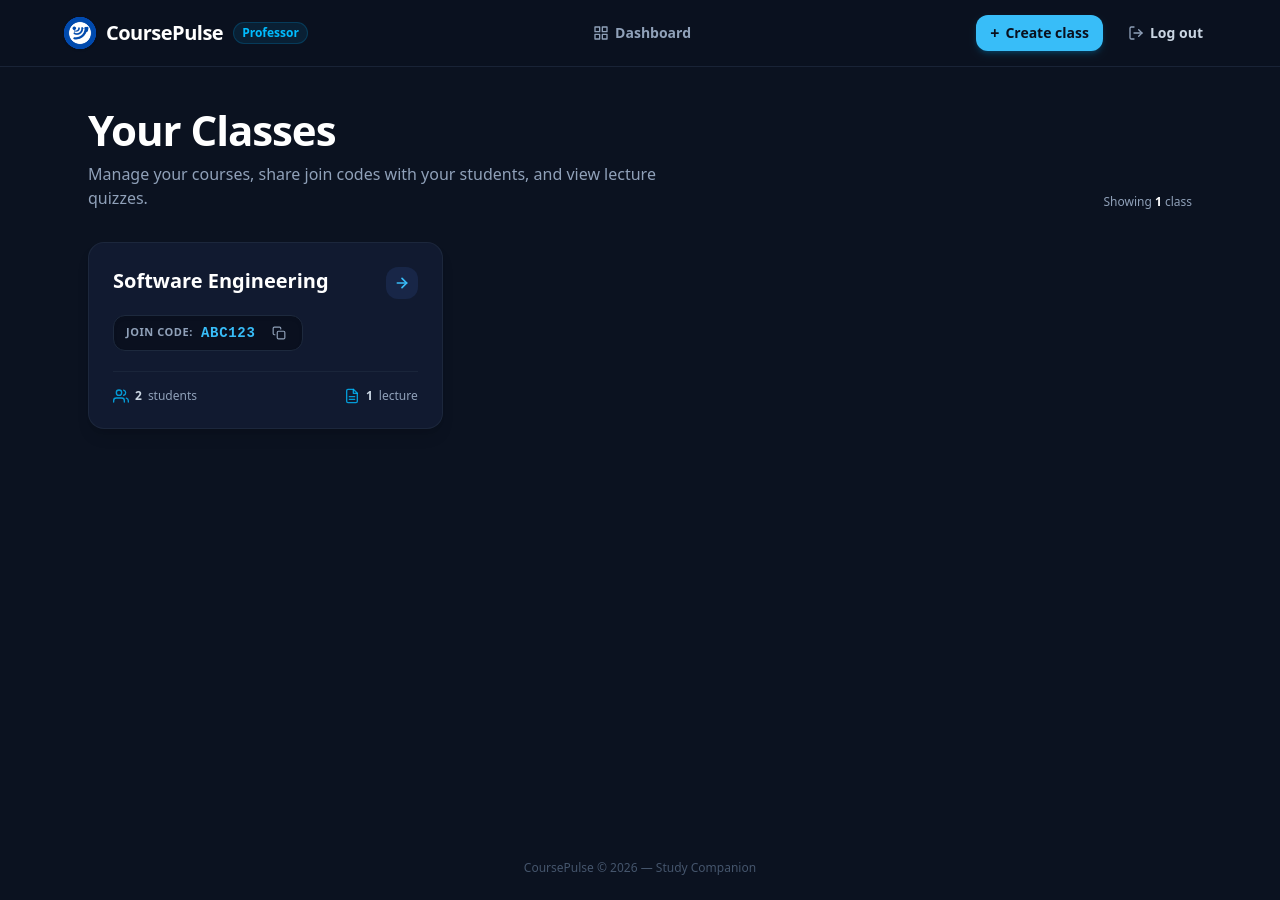
it: ProfessorDashboard copy › shows Copied on the new-class dialog only when the copy succeeds
This screenshot has width=1280, height=900.
Check: the heading "Software Engineering" is shown, box [113,267,329,295]
Click the button "+ Create class" at (1040, 33), box [976,15,1103,51]
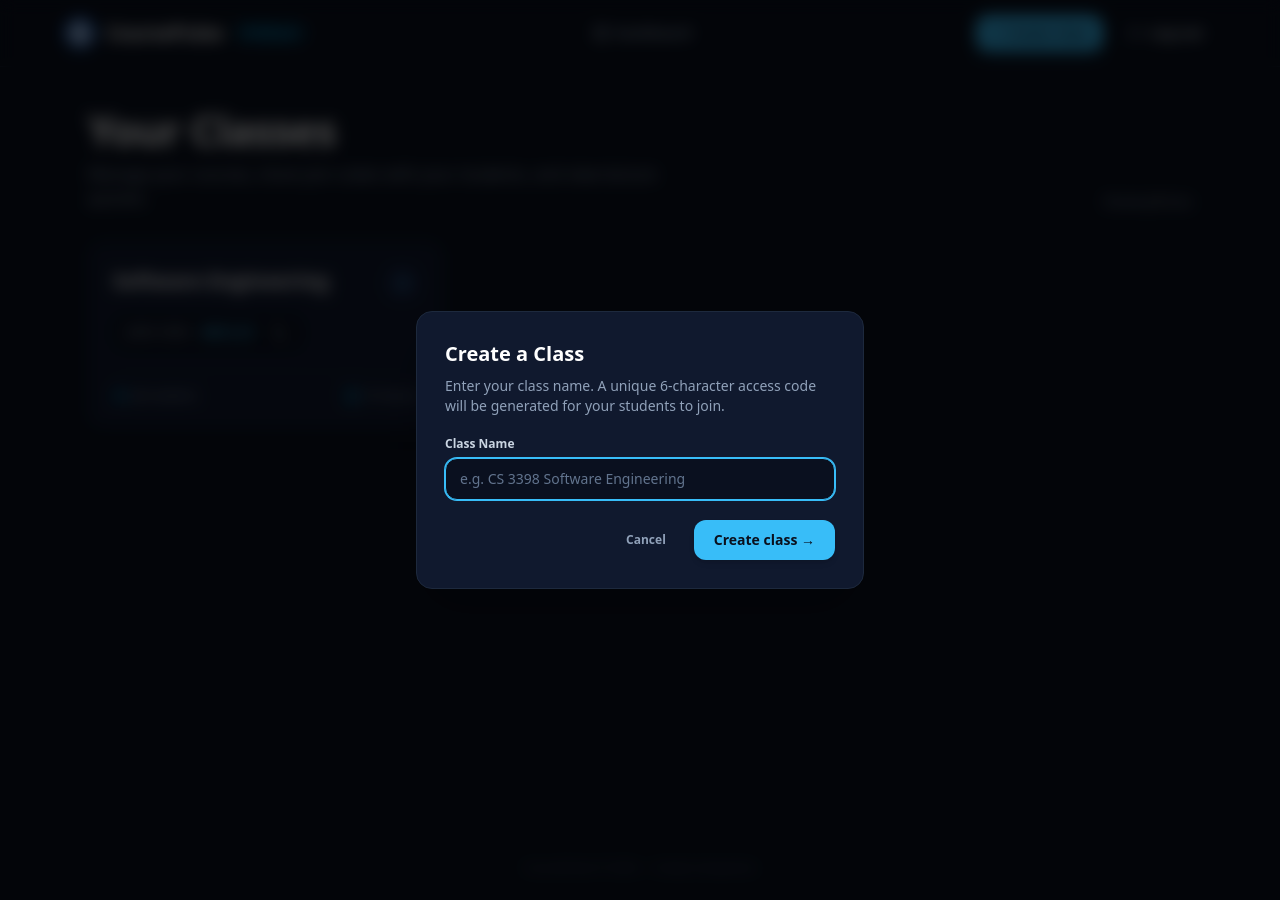
Type "Algorithms" into the field labelled "Class Name" at (640, 479), box [445,458,835,500]
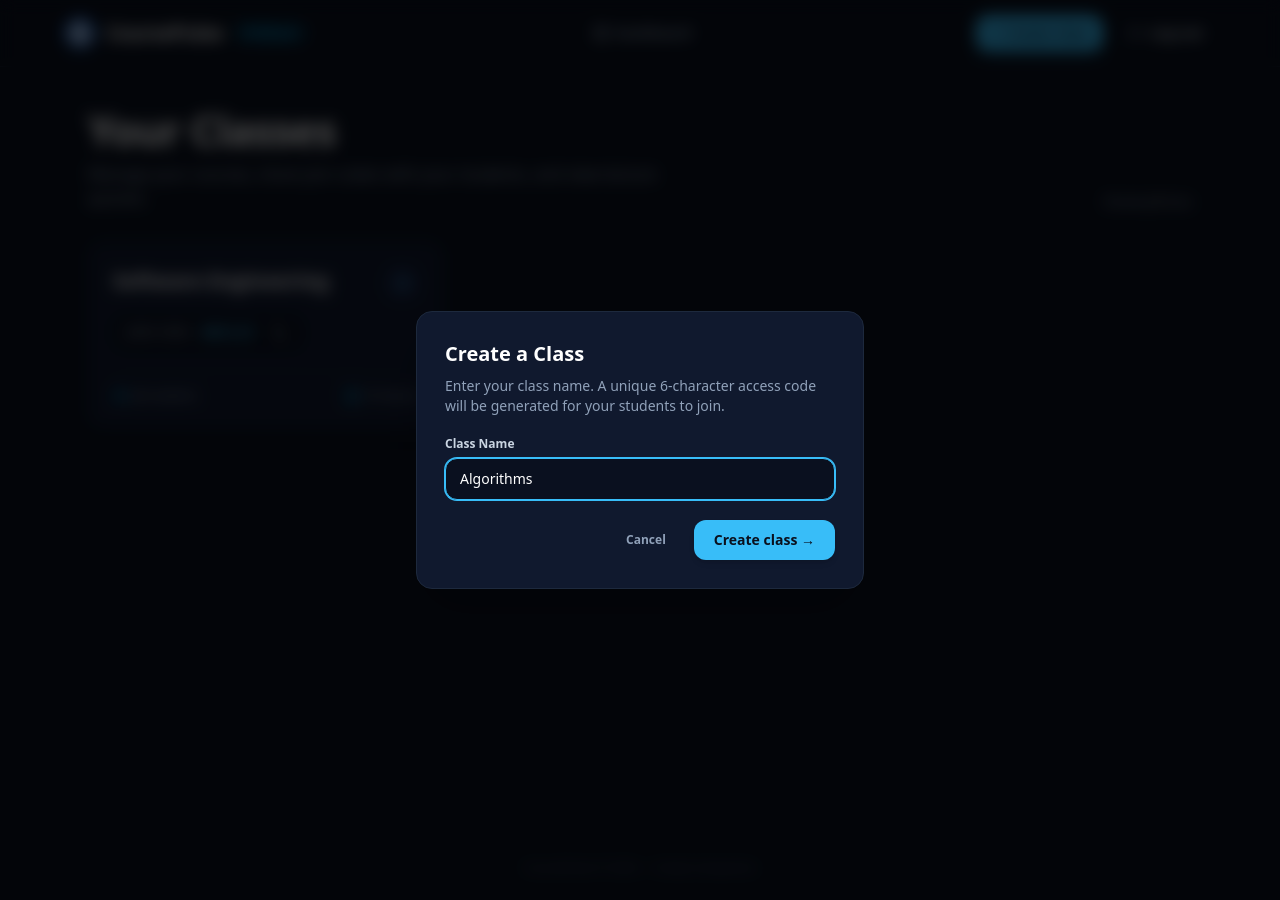
Click the button "Create class →" at (764, 540), box [694,520,835,560]
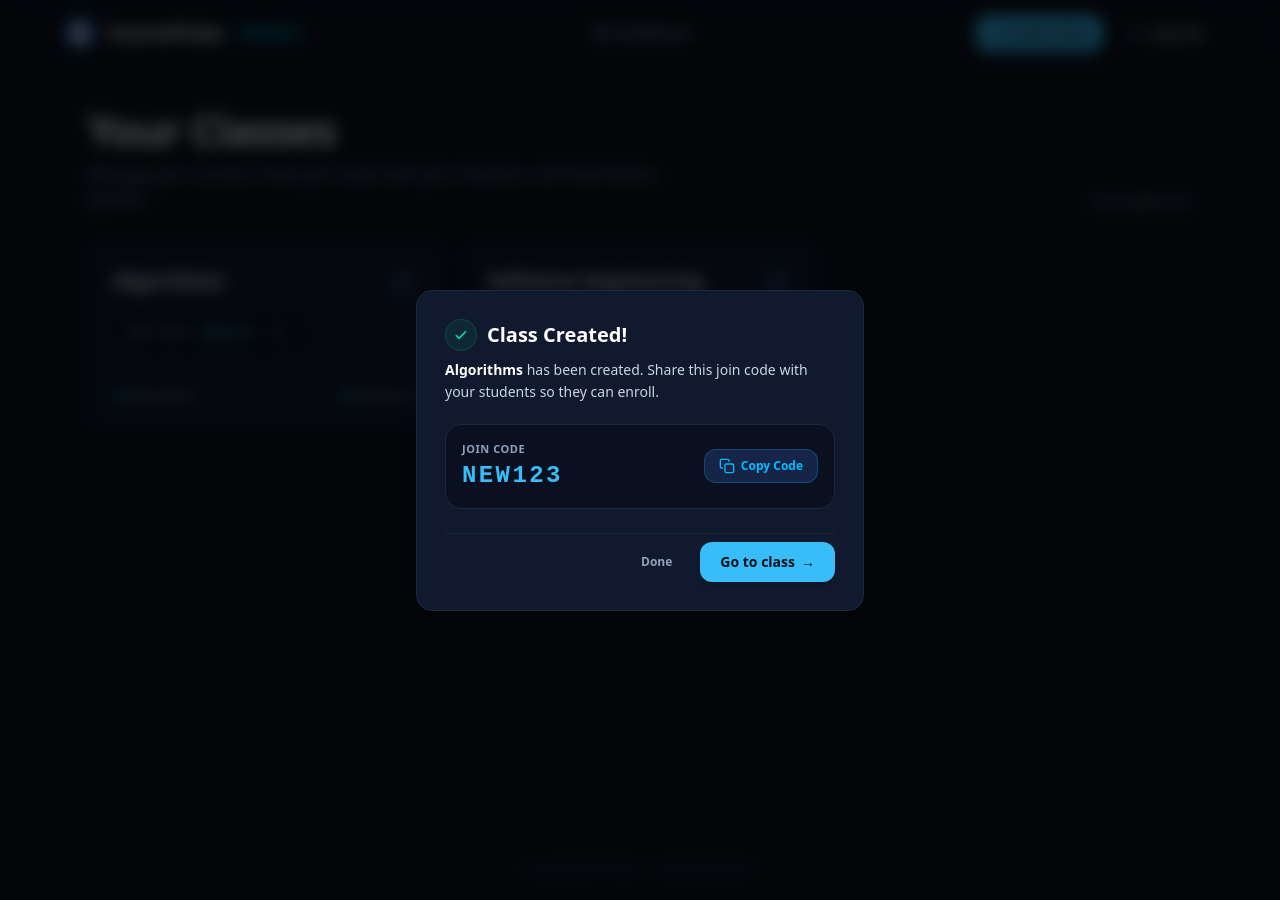
Check: the heading "Class Created!" is shown, box [487,320,627,348]
Click the button "Copy Code" at (761, 466), box [704,449,818,483]
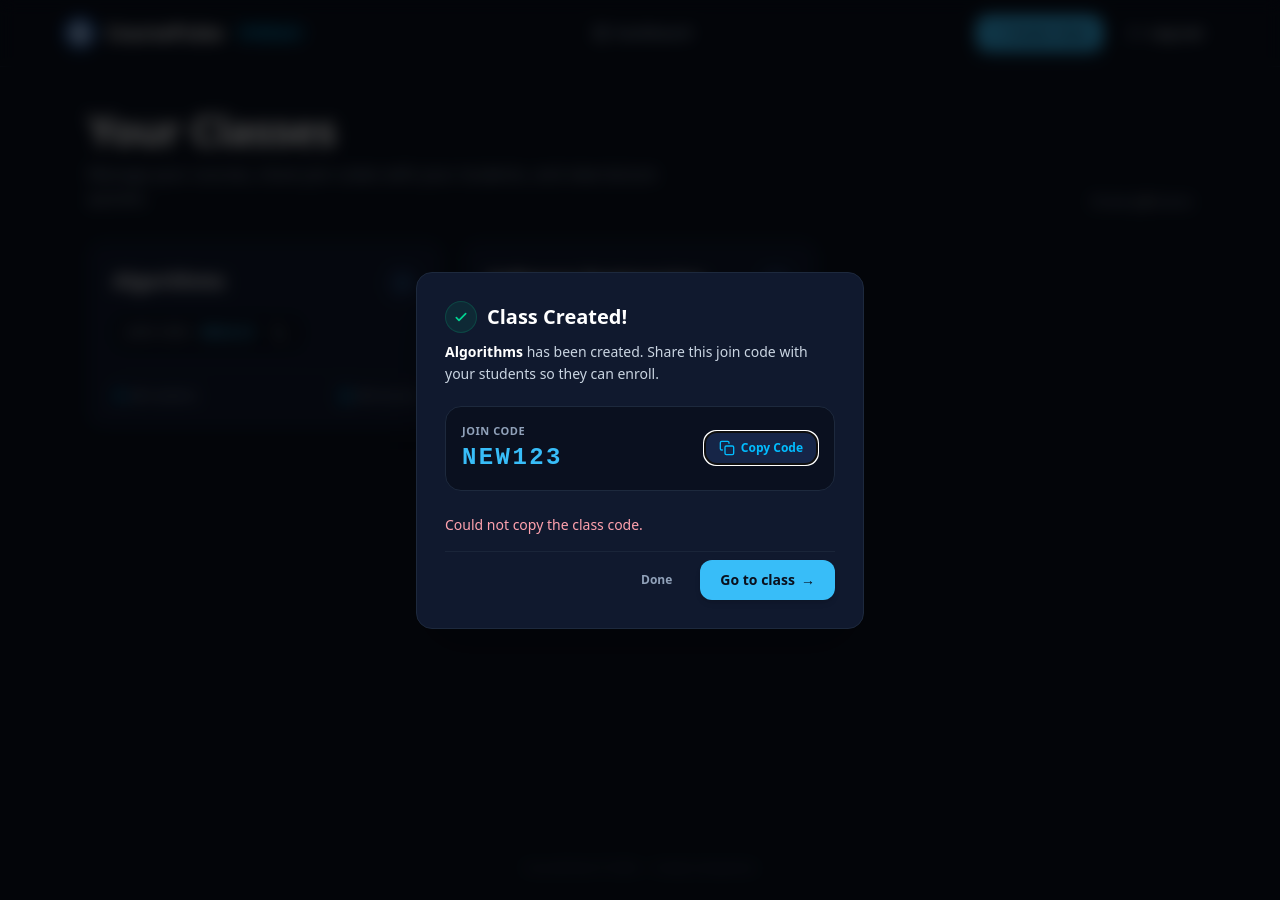
Check: the text "Copied!" is not shown
Check: the message reads "Could not copy the class code.", box [445,514,643,534]
Click the button "Copy Code" at (761, 448), box [704,431,818,465]
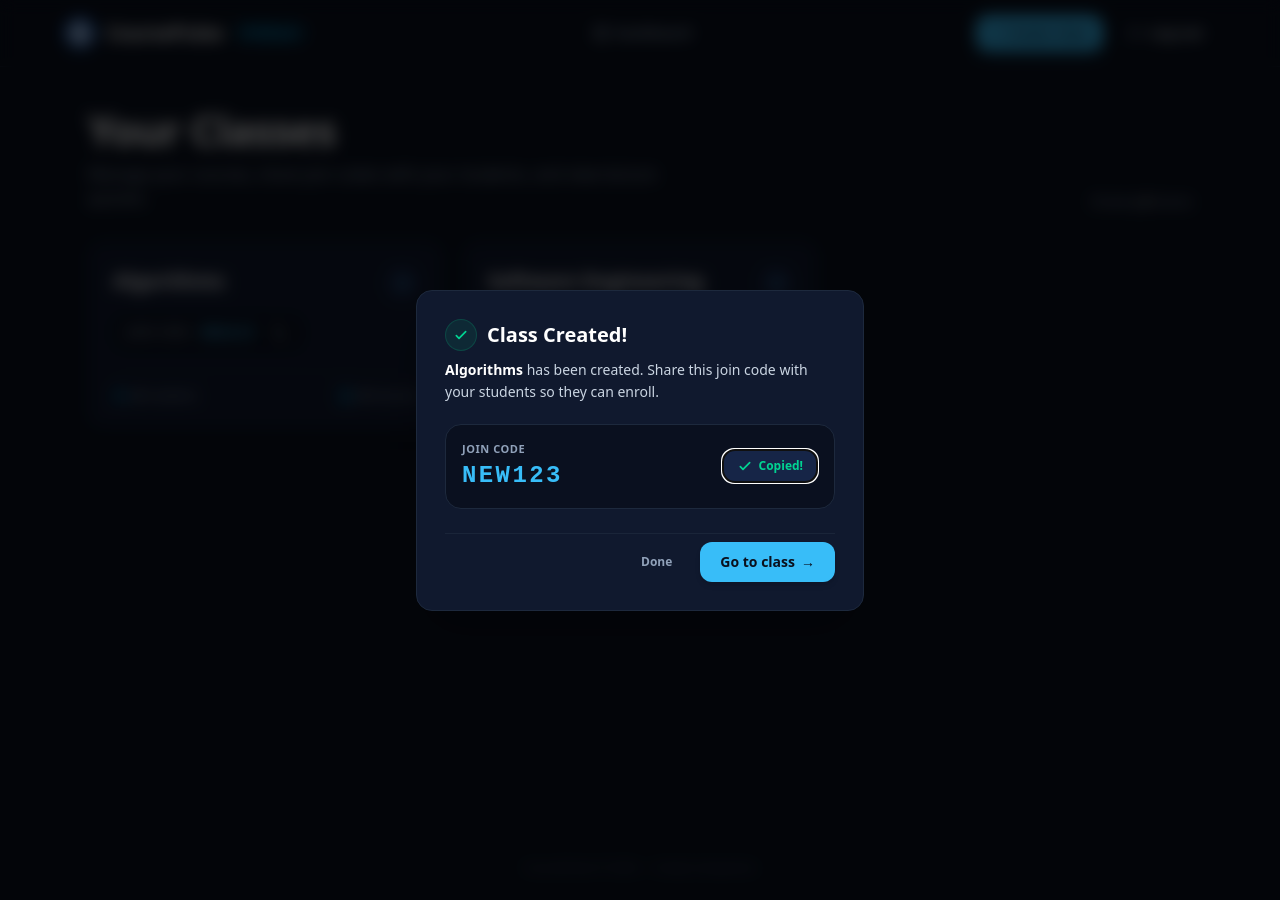
Check: the text "Copied!" is shown, box [758,458,803,474]
